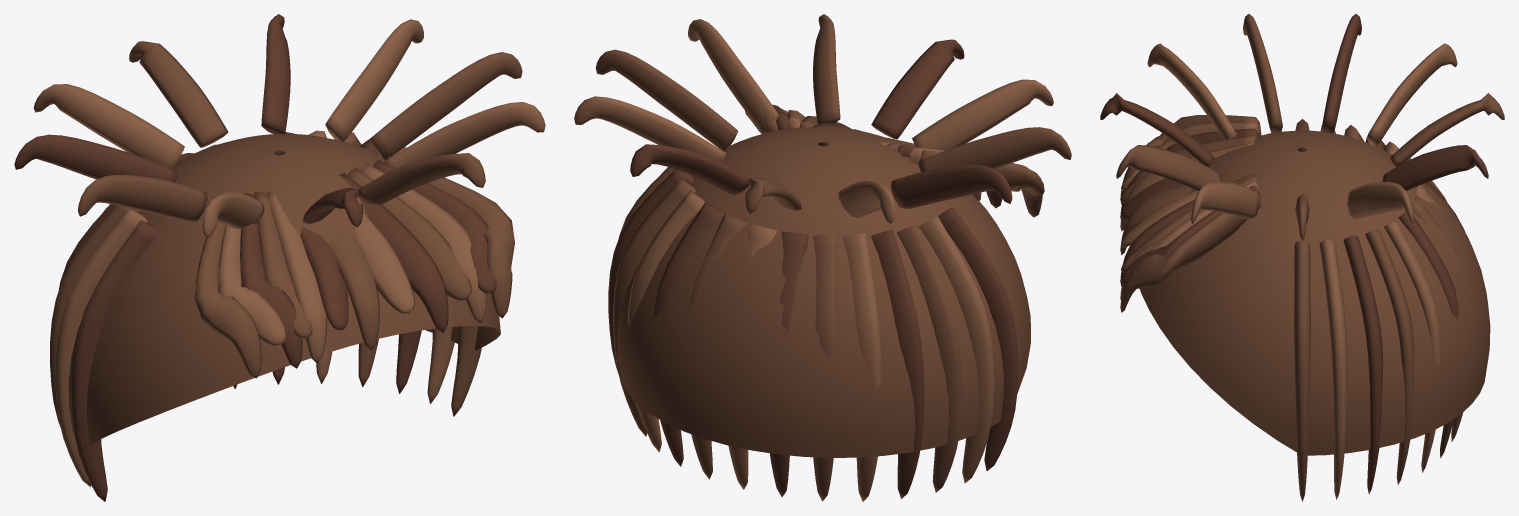
3 renders of one model, left to right at view 1: azimuth 30°, elevation 25°; view 2: azimuth 150°, elevation 25°; view 3: azimuth 270°, elevation 25°, orthographic. The views are drawn at different scales.
Parts seen in each view (by area): view 1: Tousled; view 2: Tousled; view 3: Tousled.
Boxes of the visible parts, box(x1,y1,x2,y2) form: Tousled: box(14, 14, 545, 501); Tousled: box(574, 14, 1071, 501); Tousled: box(1100, 14, 1504, 501).
Size of the model in its own units: 1.07 by 0.7553 by 0.8717.
